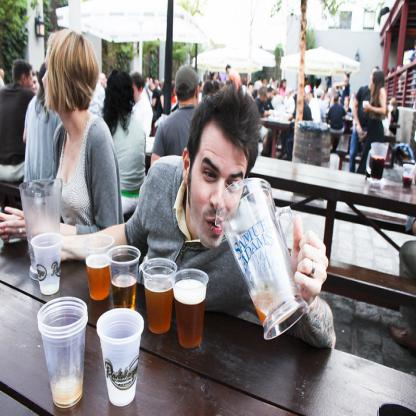drinking: (171, 268, 209, 349), (141, 258, 178, 334), (107, 246, 141, 318), (83, 234, 115, 301)
